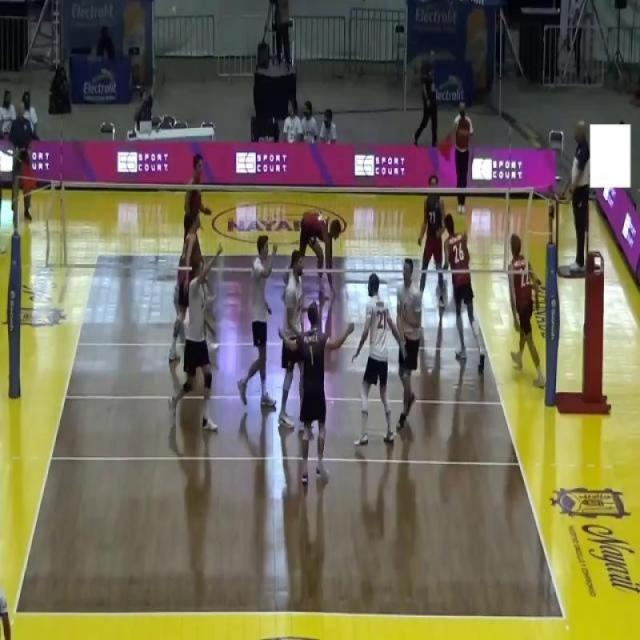volleyball: (170, 5, 177, 16)
